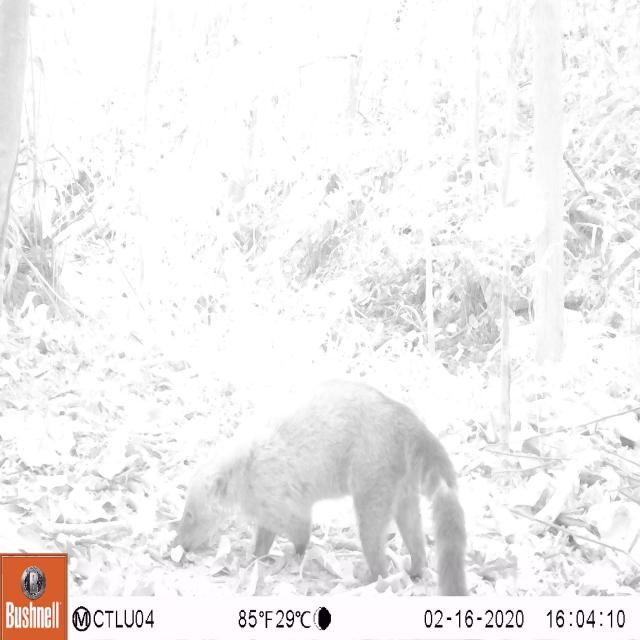South American Coati: (150, 364, 478, 596)
